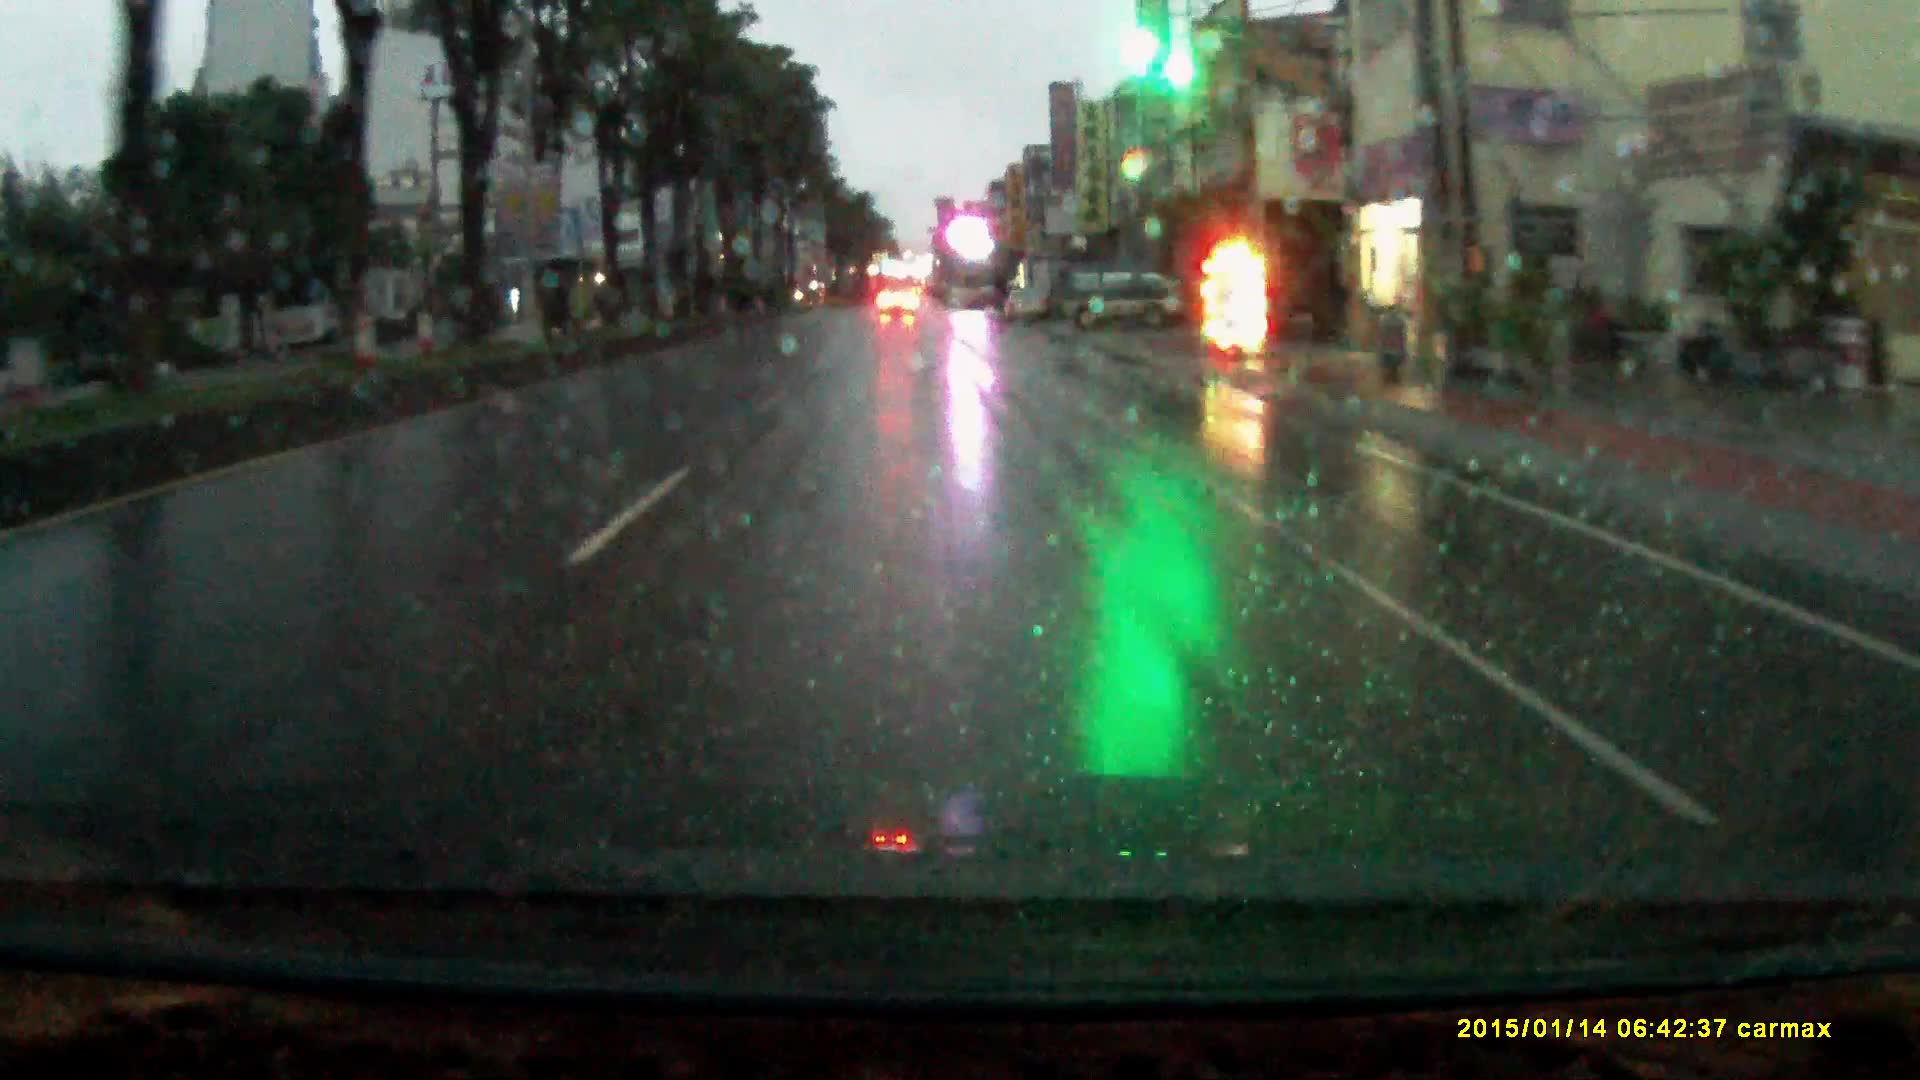vehicle: (1059, 266, 1191, 335), (1013, 258, 1076, 319), (1004, 289, 1050, 324), (878, 284, 920, 316)
